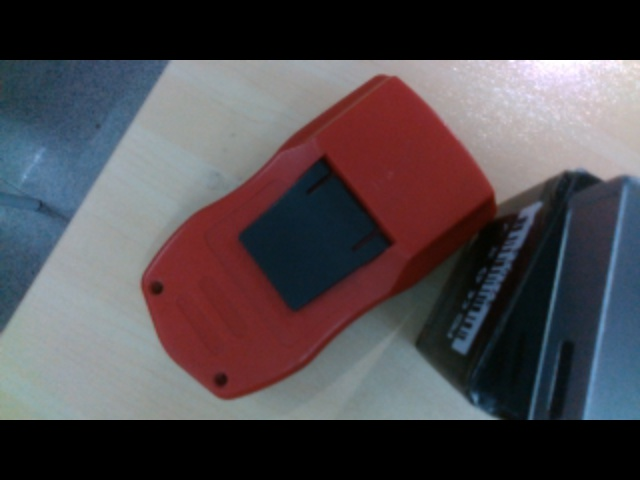Multimeter: (141, 72, 497, 402)
Screw holes: (212, 371, 231, 389), (146, 281, 168, 296)
